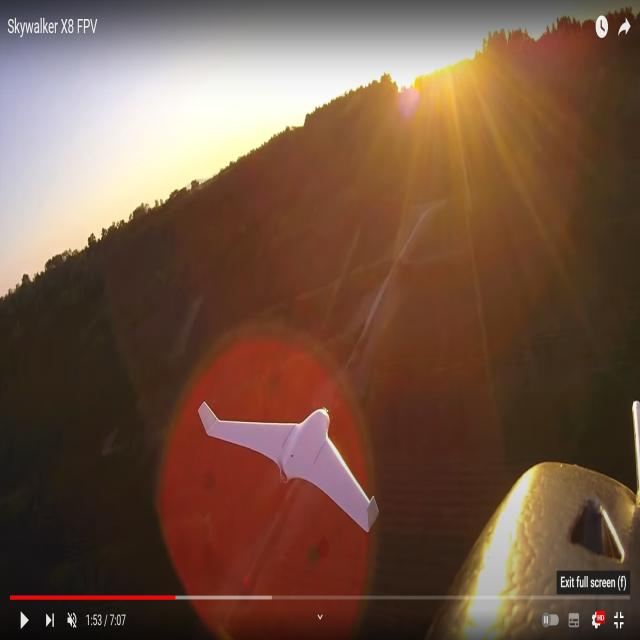iha: (198, 397, 377, 532)
